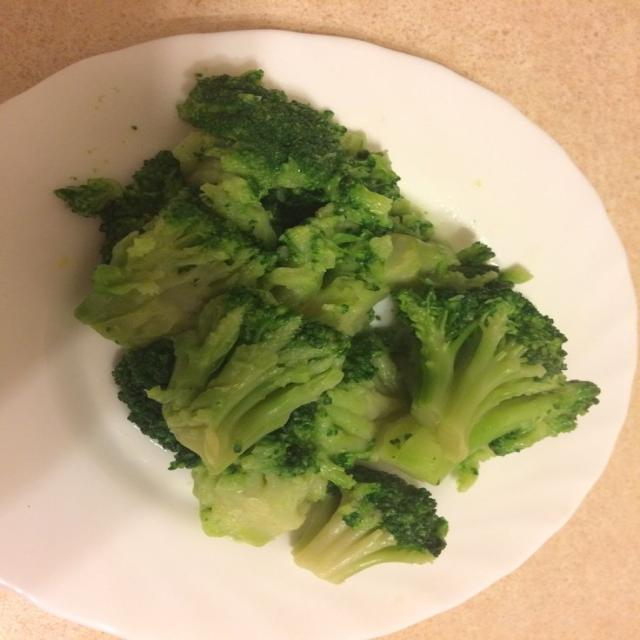broccoli: (56, 70, 598, 582), (375, 283, 598, 483), (150, 288, 347, 473), (76, 198, 274, 347), (178, 70, 345, 195), (193, 404, 327, 546), (294, 467, 447, 583), (54, 151, 188, 262), (317, 331, 407, 469), (113, 339, 199, 469)
